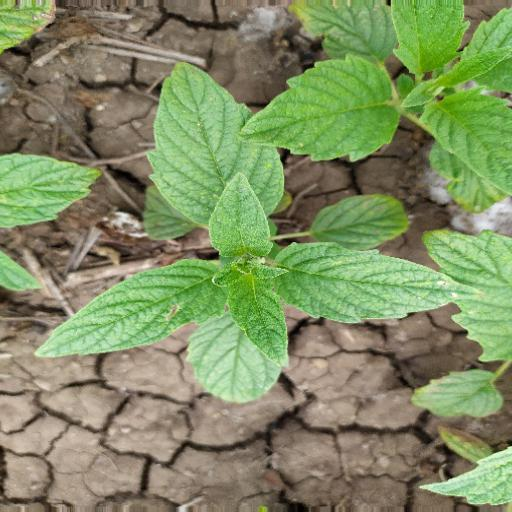crop: (31, 3, 512, 437)
